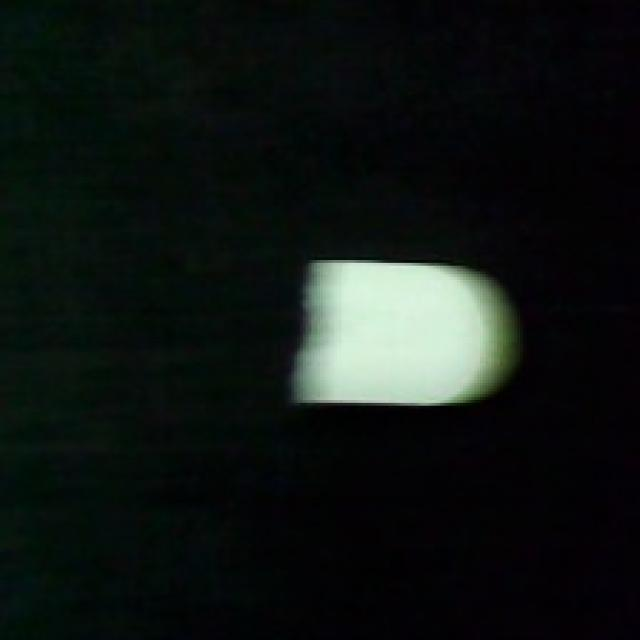defected: (289, 260, 526, 409)
